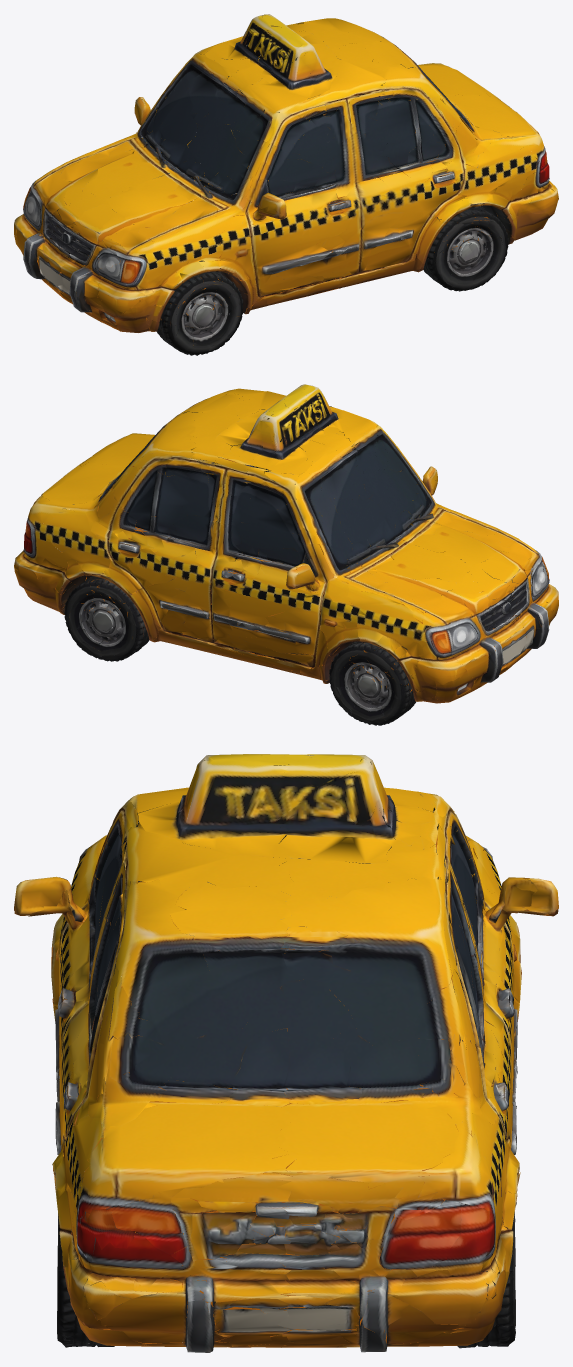
File: Taxi.fbx
The picture shows the model from 3 angles, top to bottom: view 1: azimuth 30°, elevation 25°; view 2: azimuth 150°, elevation 25°; view 3: azimuth 270°, elevation 25°; orthographic projection. The views are drawn at different scales.
Parts seen in each view (by area): view 1: Taxi.009; view 2: Taxi.009; view 3: Taxi.009.
Boxes of the visible parts, left/top/right/bottom form: Taxi.009: left=14, top=14, right=558, bottom=355; Taxi.009: left=14, top=384, right=558, bottom=725; Taxi.009: left=14, top=754, right=558, bottom=1352.
Size of the model in its own units: 3.19 by 1.62 by 1.72.
1 material, 1 textured.
